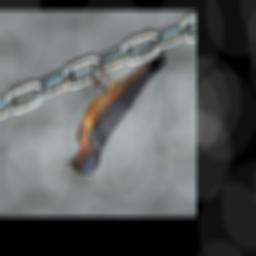Swallow: (62, 49, 168, 175)
